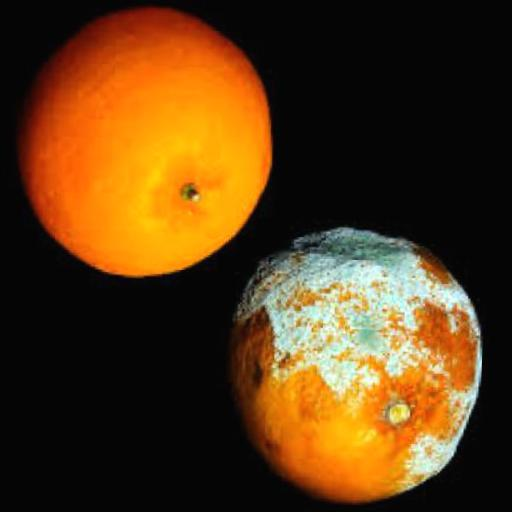biodegradable: (218, 225, 483, 512), (12, 6, 275, 286)
